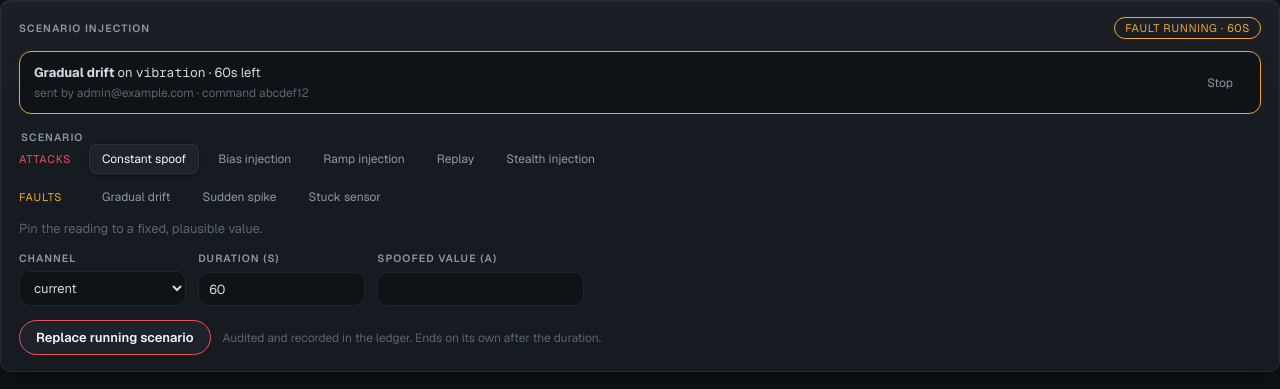
ScenarioInjectPanel › shows a running injection from the backend and stops it
This screenshot has width=1280, height=389.
Expected: the message with test id "inject-active" shows "Gradual drift", 34,64 -> 114,81
Expected: the text with test id "inject-badge" shows "Fault running", 1114,17 -> 1261,39
Click the button with test id "inject-cancel" at (1220, 82), box 1194,68 -> 1246,98
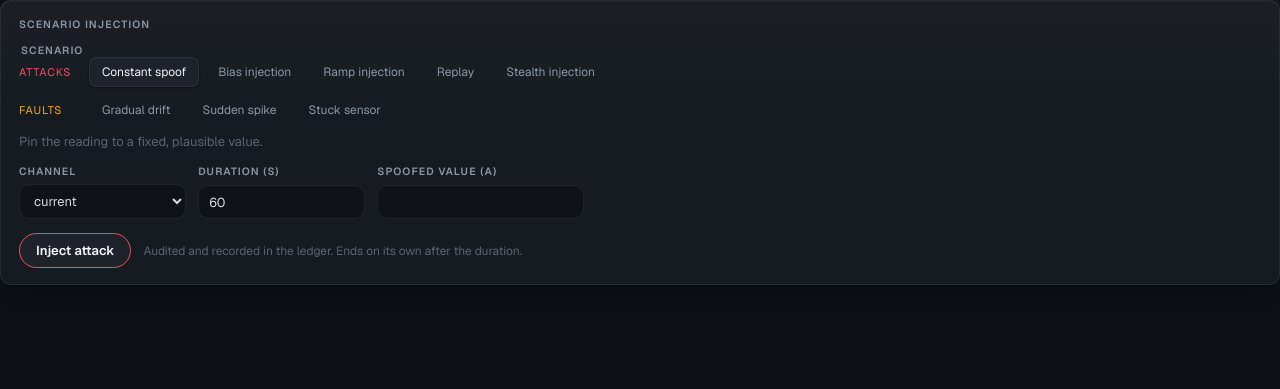
Expected: the message with test id "inject-active" is gone
